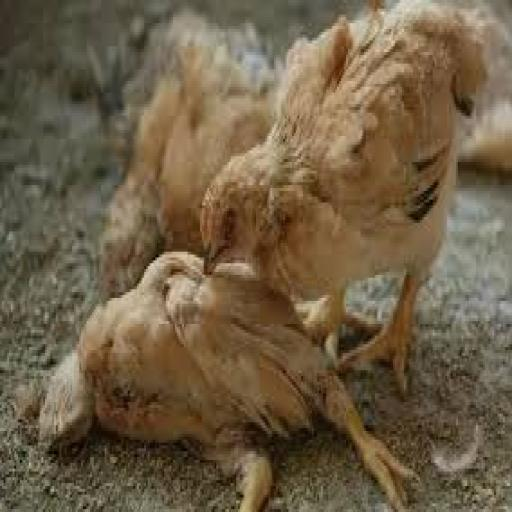disease: (208, 198, 253, 270)
